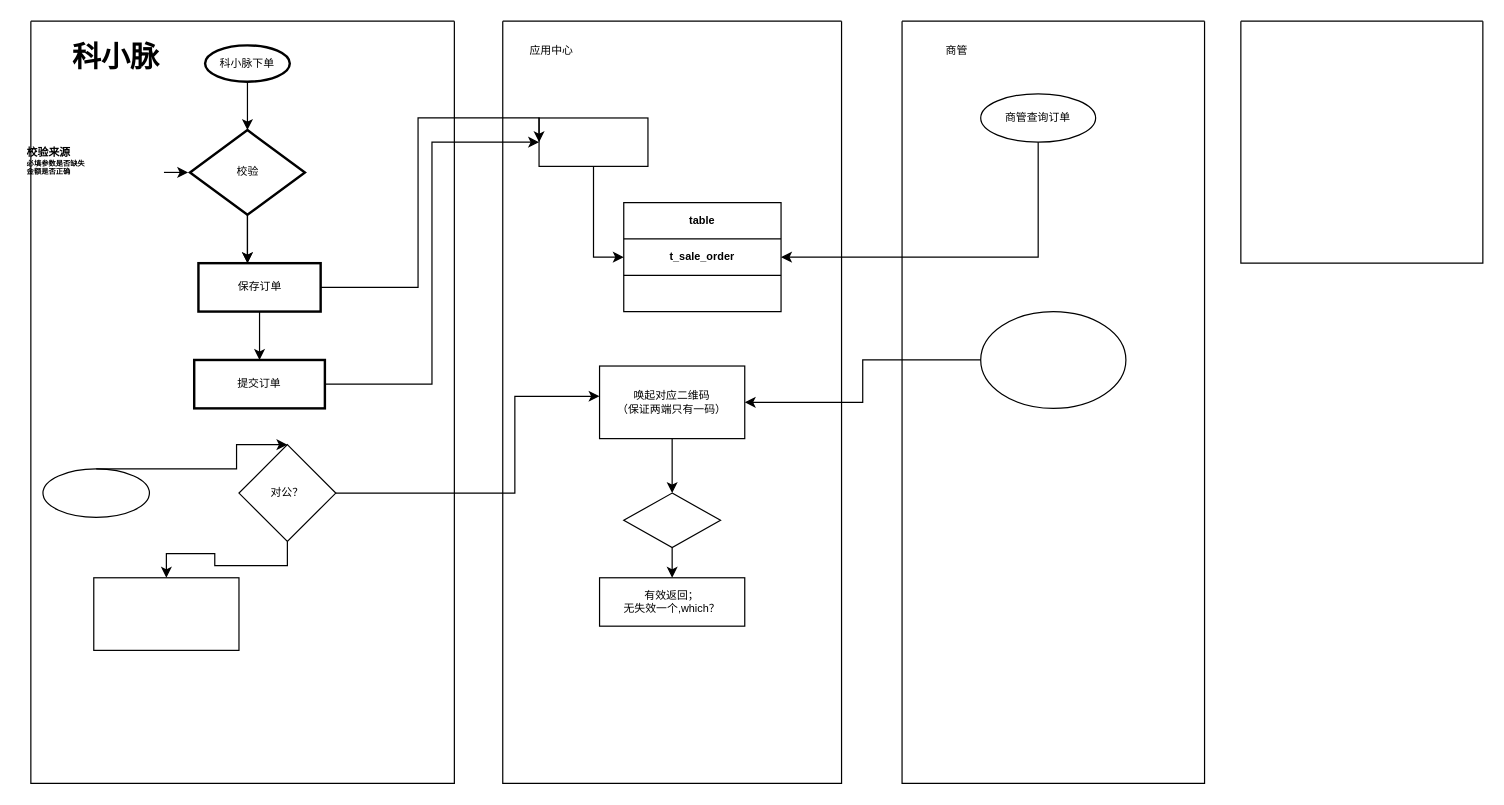
Image size: 1504x805. Some labels were removed from this diagram. Here are the shapes that lost their labels. From the top down, the centre of each, then its label:
At pixel 593 141: "编辑保存提交".
At pixel 1052 359: "商管付款".
At pixel 95 492: "去付款".
At pixel 672 520: "当前码是否有效？".
At pixel 166 613: "相关凭证".
